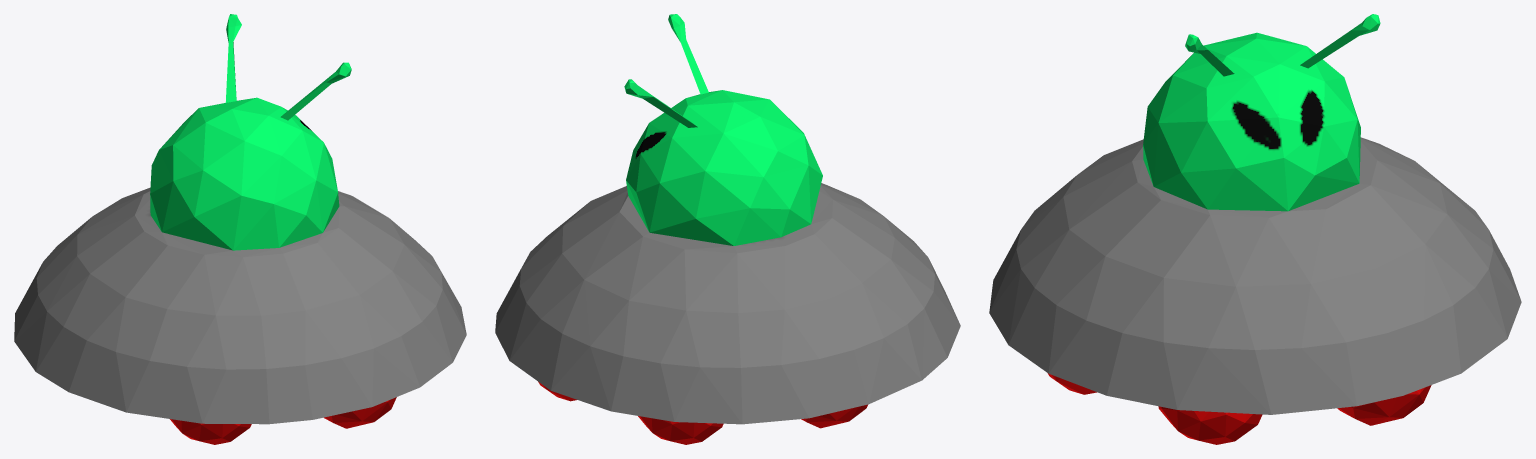
File: Alien.glb
3 views of the same model, side by side, from view 1: azimuth 30°, elevation 25°; view 2: azimuth 150°, elevation 25°; view 3: azimuth 270°, elevation 25° (orthographic). The views are drawn at different scales.
Parts seen in each view (by area): view 1: Alien; view 2: Alien; view 3: Alien.
Part boxes in pixels (bbox=[...]): Alien: bbox=[14, 14, 466, 444]; Alien: bbox=[495, 14, 960, 444]; Alien: bbox=[989, 14, 1521, 444].
Bounding box in the file's own units: 2.93 × 2.28 × 2.92.
Materials: 1 (1 with a texture image).
